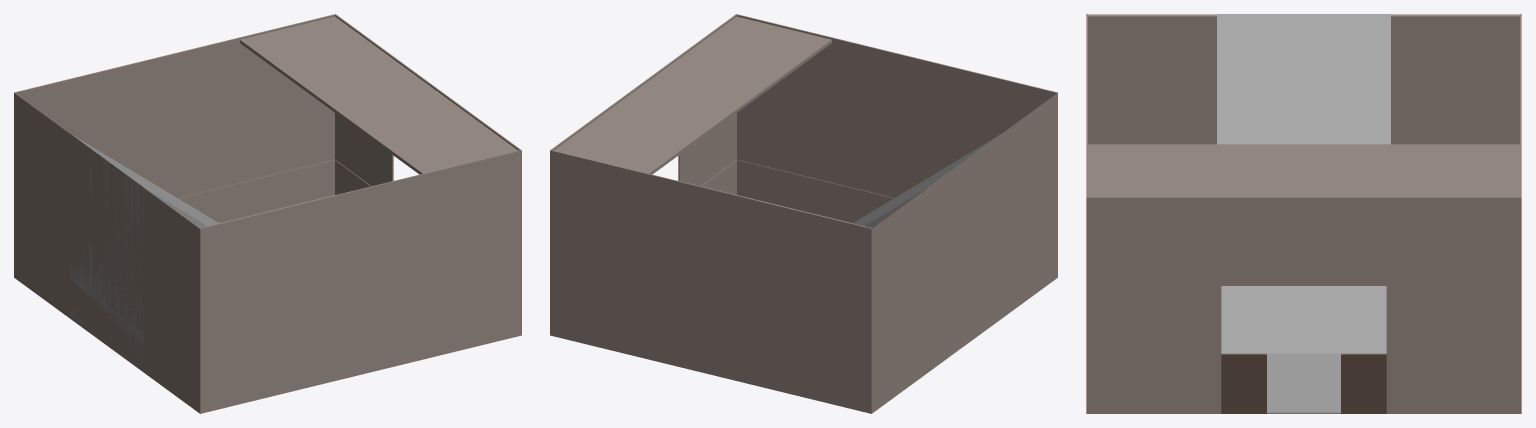
File: Room25_GrandStaircase.fbx
The picture shows the model from 3 angles, left to right: view 1: azimuth 30°, elevation 25°; view 2: azimuth 150°, elevation 25°; view 3: azimuth 270°, elevation 25°; orthographic projection. The views are drawn at different scales.
Parts seen in each view (by area): view 1: WallPosZ, WallNegZ, WallPosX, Roof, WallPosZ4, WallPosX11, pCube27, WallNegZ7, WallOpenNegX, WallOpenNegX1; view 2: WallNegZ, WallPosZ, WallPosX, Roof, WallNegZ7, WallPosX11, WallPosZ4, WallOpenNegX, pCube27, WallOpenNegX1; view 3: WallOpenNegX, pCube27, WallPosX, Roof, WallOpenNegX1, floor_Geo4, pCube28, WallPosZ, WallNegZ.
Boxes of the visible parts, x1,y1,x2,y2 form: WallPosZ: [199, 150, 521, 373]; WallNegZ: [14, 14, 335, 237]; WallPosX: [14, 93, 199, 372]; Roof: [240, 16, 517, 174]; WallPosZ4: [199, 295, 521, 413]; WallPosX11: [14, 238, 199, 412]; pCube27: [70, 133, 218, 372]; WallNegZ7: [14, 160, 334, 277]; WallOpenNegX: [335, 14, 520, 186]; WallOpenNegX1: [335, 160, 370, 194]; WallNegZ: [550, 150, 872, 373]; WallPosZ: [736, 14, 1057, 237]; WallPosX: [872, 93, 1057, 372]; Roof: [554, 16, 831, 174]; WallNegZ7: [550, 295, 871, 413]; WallPosX11: [872, 238, 1057, 413]; WallPosZ4: [737, 159, 1057, 277]; WallOpenNegX: [551, 14, 736, 186]; pCube27: [853, 133, 1001, 228]; WallOpenNegX1: [701, 160, 736, 194]; WallOpenNegX: [1087, 196, 1520, 366]; pCube27: [1217, 14, 1390, 354]; WallPosX: [1088, 14, 1519, 144]; Roof: [1088, 144, 1519, 196]; WallOpenNegX1: [1087, 366, 1520, 413]; floor_Geo4: [1221, 354, 1386, 413]; pCube28: [1267, 353, 1340, 413]; WallPosZ: [1086, 14, 1087, 366]; WallNegZ: [1520, 14, 1521, 366].
Size of the model in its own units: 800 by 440 by 802.
